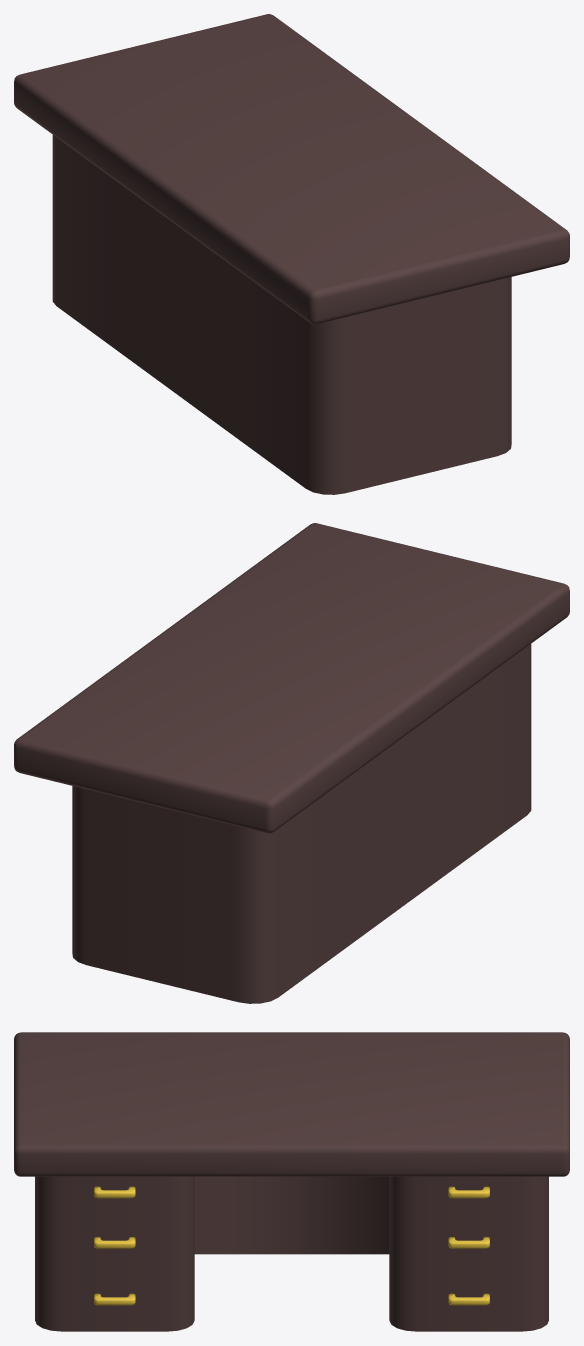
The model's file is DeskBlockout_RB.fbx.
3 renders of one model, top to bottom at view 1: azimuth 30°, elevation 25°; view 2: azimuth 150°, elevation 25°; view 3: azimuth 270°, elevation 25°, orthographic. The views are drawn at different scales.
Visible parts, largest first — view 1: DeskBlockout_RB; view 2: DeskBlockout_RB; view 3: DeskBlockout_RB.
Boxes of the visible parts, box(x1,y1,x2,y2) form: DeskBlockout_RB: box(14, 14, 569, 494); DeskBlockout_RB: box(14, 523, 569, 1003); DeskBlockout_RB: box(14, 1032, 569, 1331).
Size of the model in its own units: 4 by 3.2 by 8.
